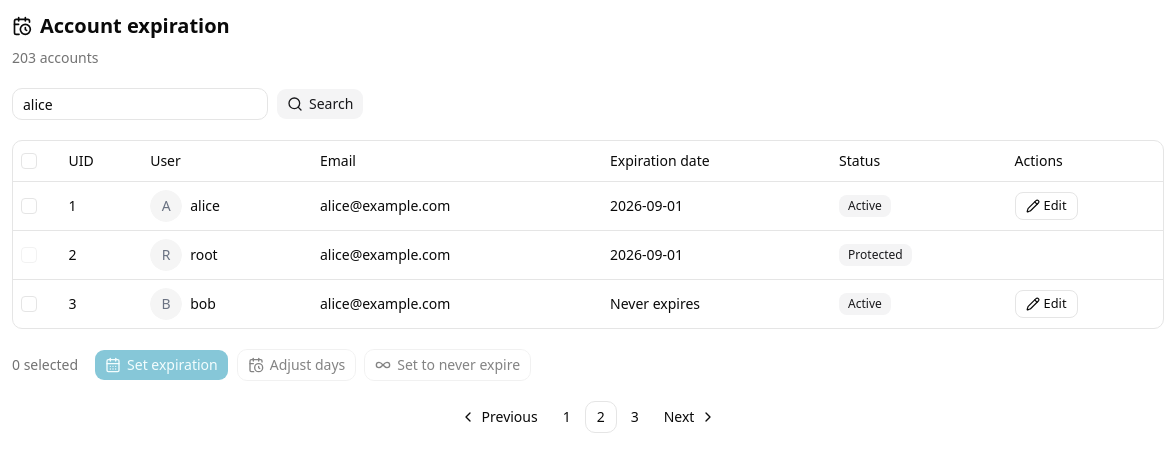
Test: ExpirationPage › supports shift selection while skipping protected rows
This screenshot has width=1164, height=450.
Click the checkbox named "Select alice" at (29, 206), box [21,198,37,214]
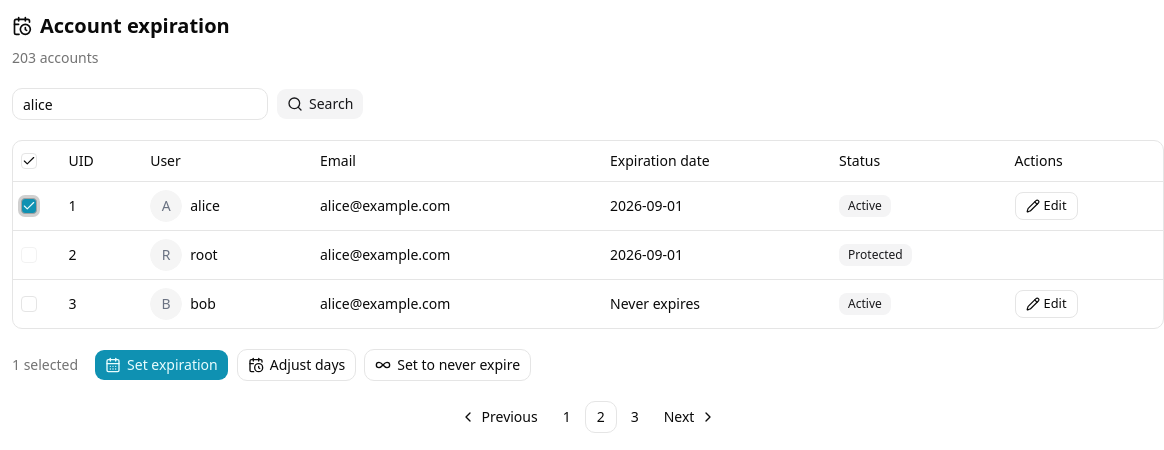
Click the checkbox named "Select bob" at (29, 304), box [21,296,37,312]
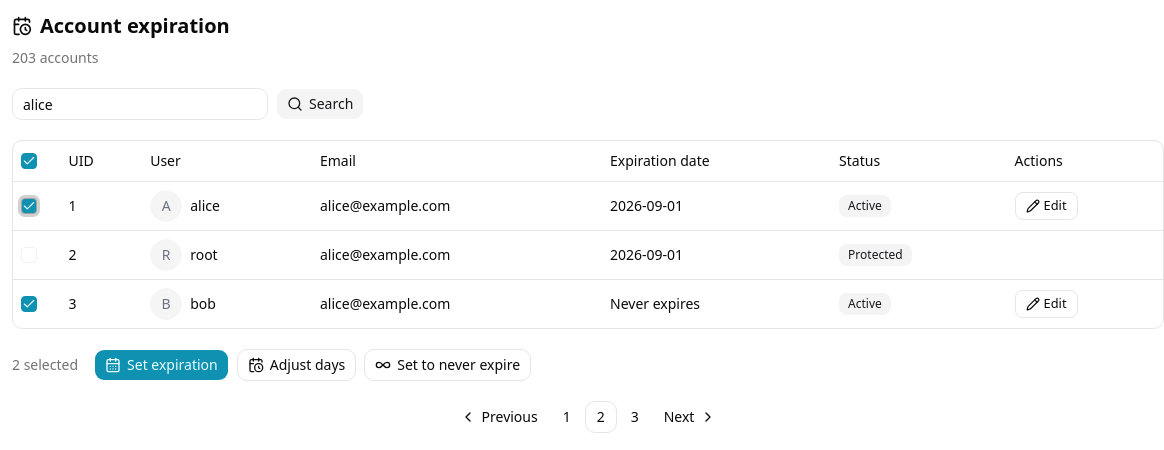
Check: the text "2 selected" is shown, box [12,354,78,374]
